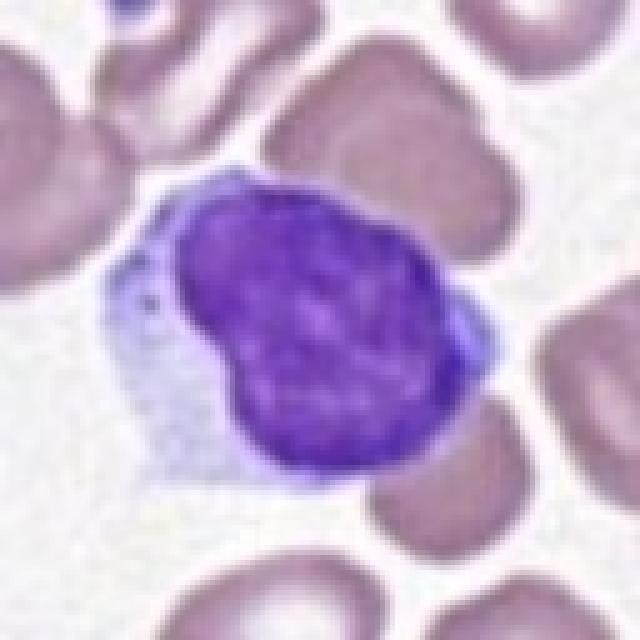lympho: (89, 157, 510, 501)
